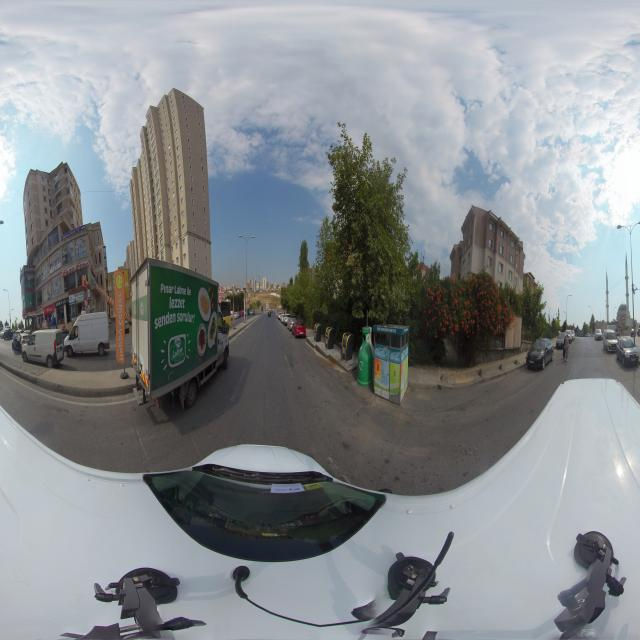SignStore: (62, 260, 89, 277), (61, 224, 86, 241), (69, 291, 83, 305), (55, 297, 69, 307), (44, 303, 55, 315), (90, 263, 96, 276), (24, 267, 35, 272), (36, 304, 42, 312)
